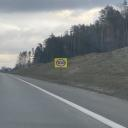speed_limit_100: (55, 58, 67, 67)
